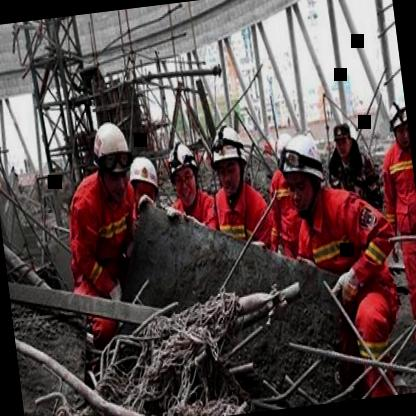helmet: (280, 131, 330, 216), (86, 118, 136, 196), (210, 120, 254, 199), (124, 154, 164, 221), (168, 142, 198, 194), (386, 97, 410, 150)
